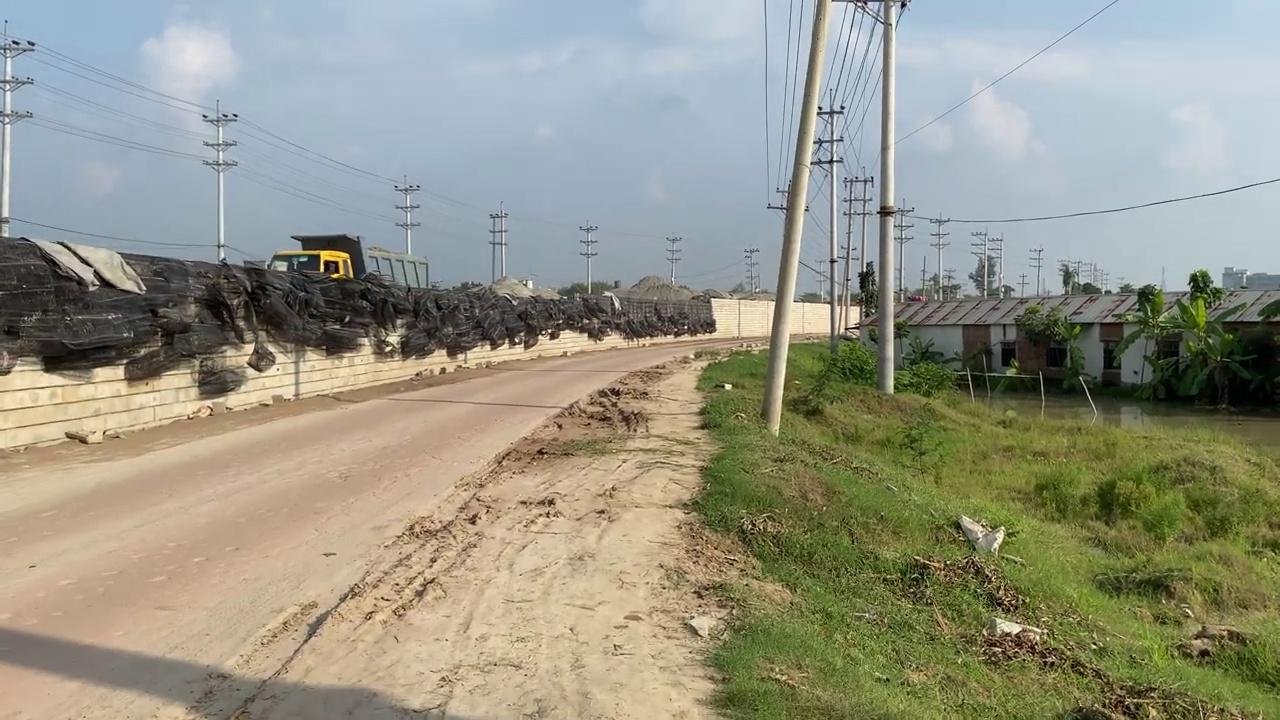Garbage: (0, 234, 716, 379)
Pole: (760, 0, 833, 437), (875, 1, 896, 394), (814, 89, 845, 354)
Tree: (265, 232, 430, 289)
